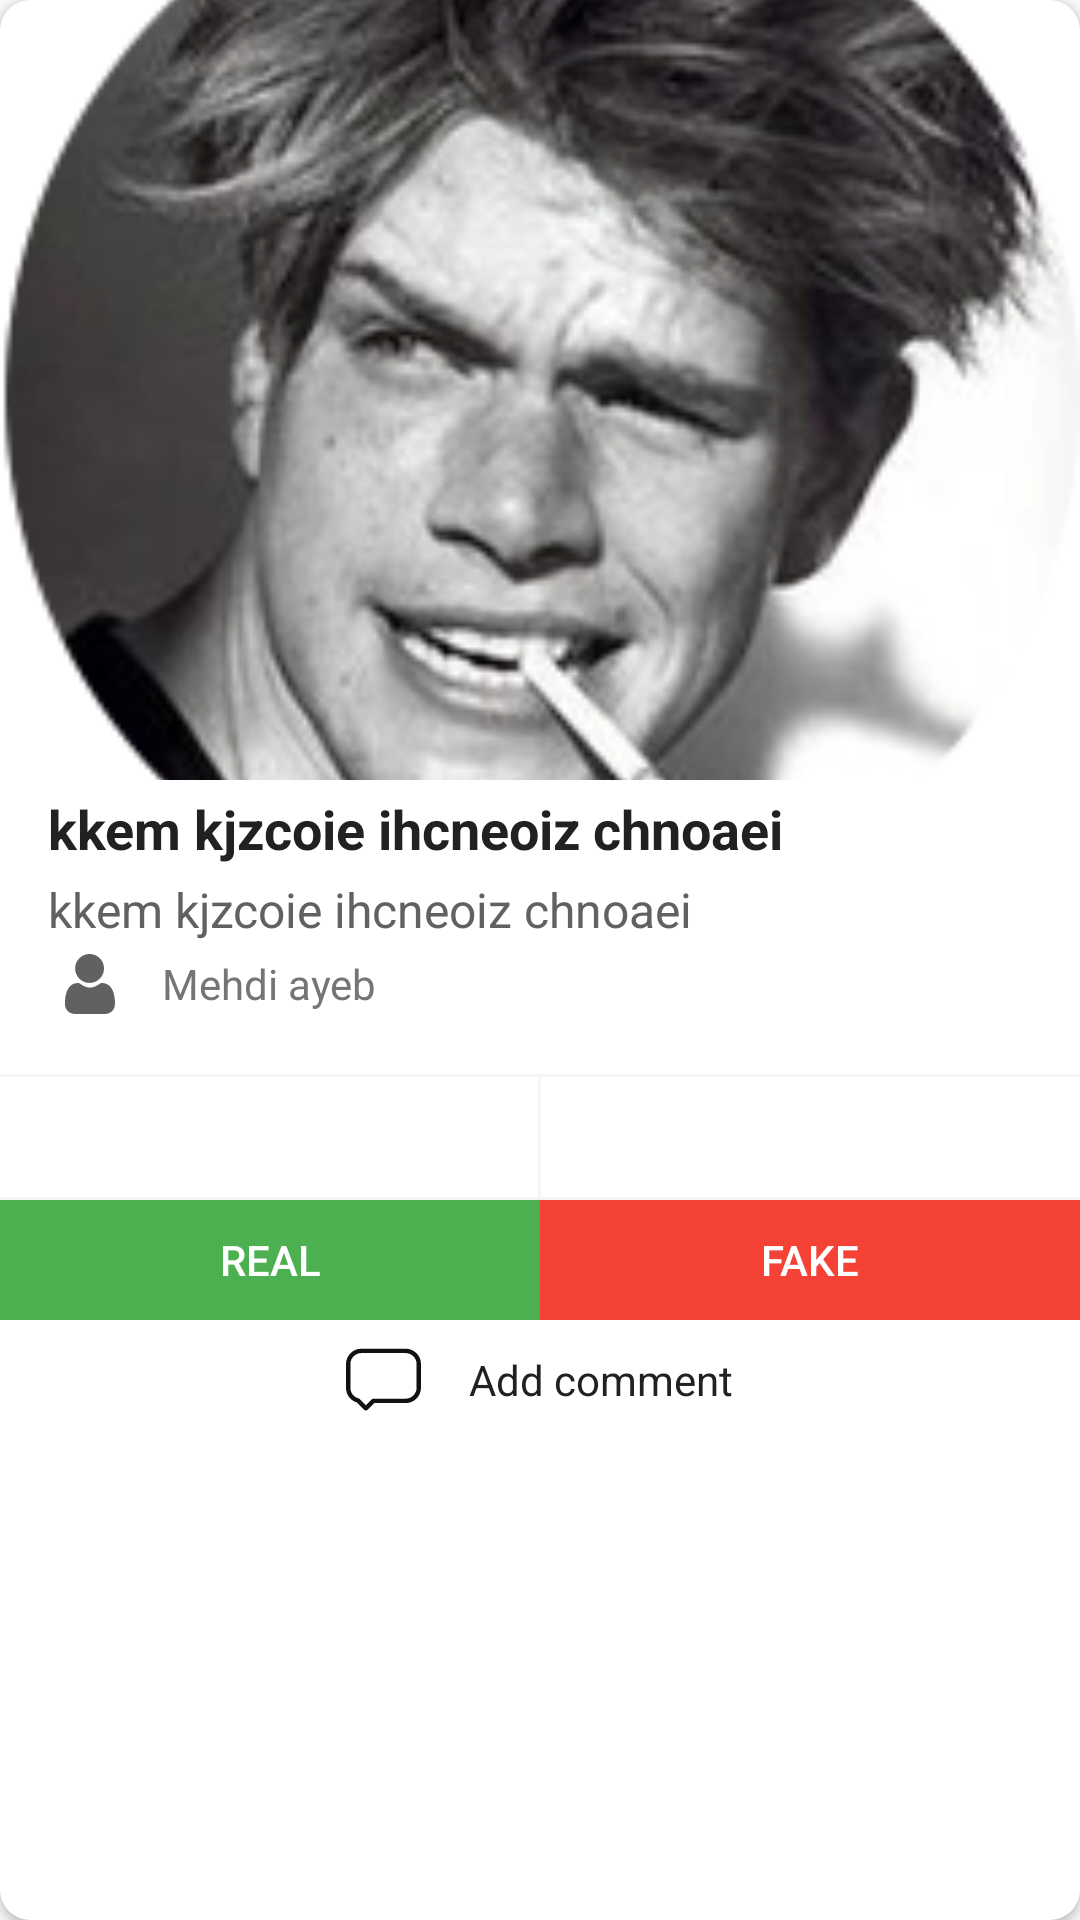

Icon click points for this 1080w x 1920h phone screenshot, format point (x, y):
user: point (90, 984)
